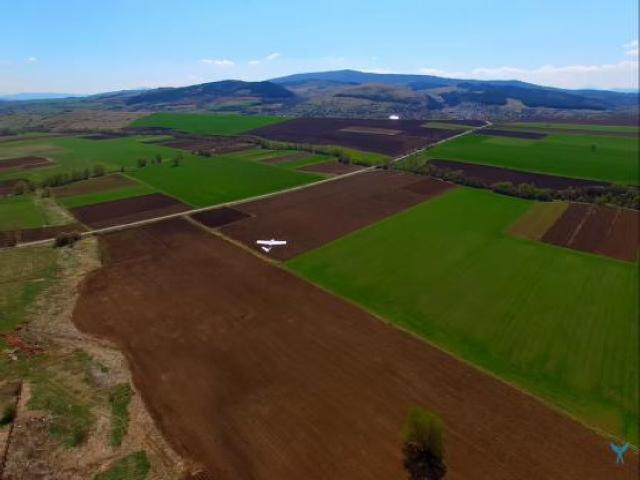uav: (252, 226, 290, 255)
